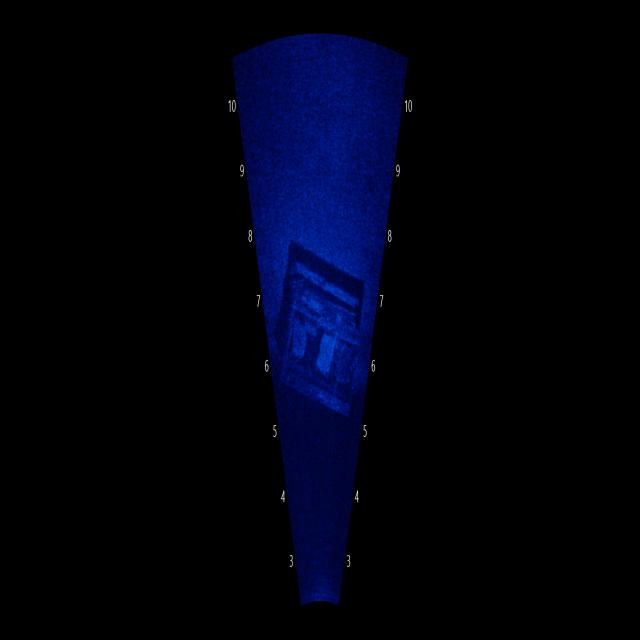square: (268, 234, 374, 433)
